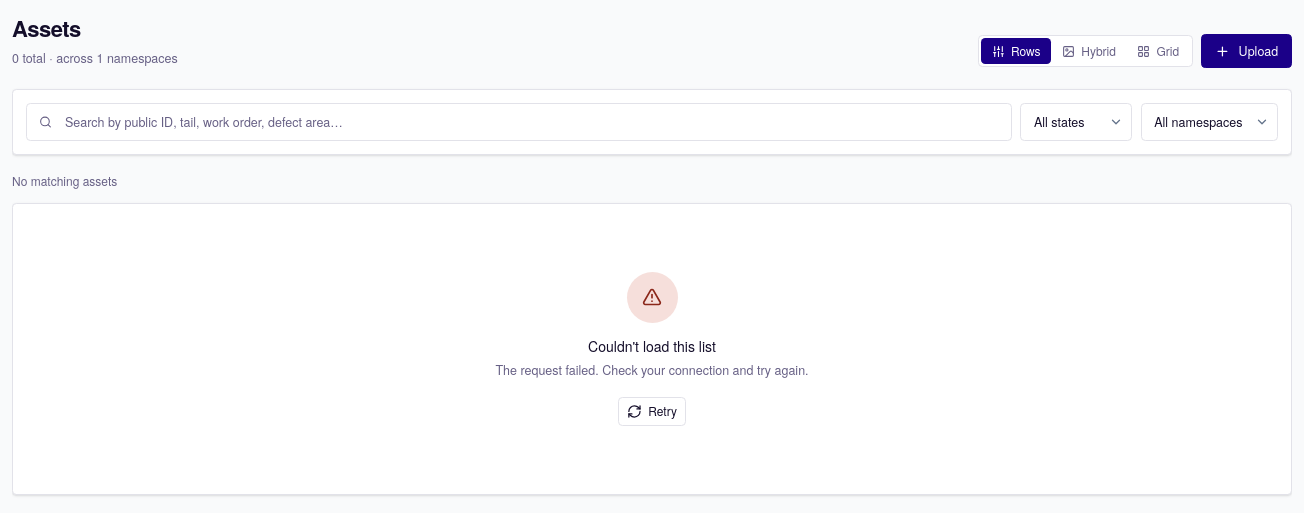
AssetsListPage › re-fetches on retry and replaces the error with data once the retry succeeds
Expected: the message is shown, [12,203,1292,495]
Step 1. Click the button "Retry" → (652, 411), box [618,396,686,426]
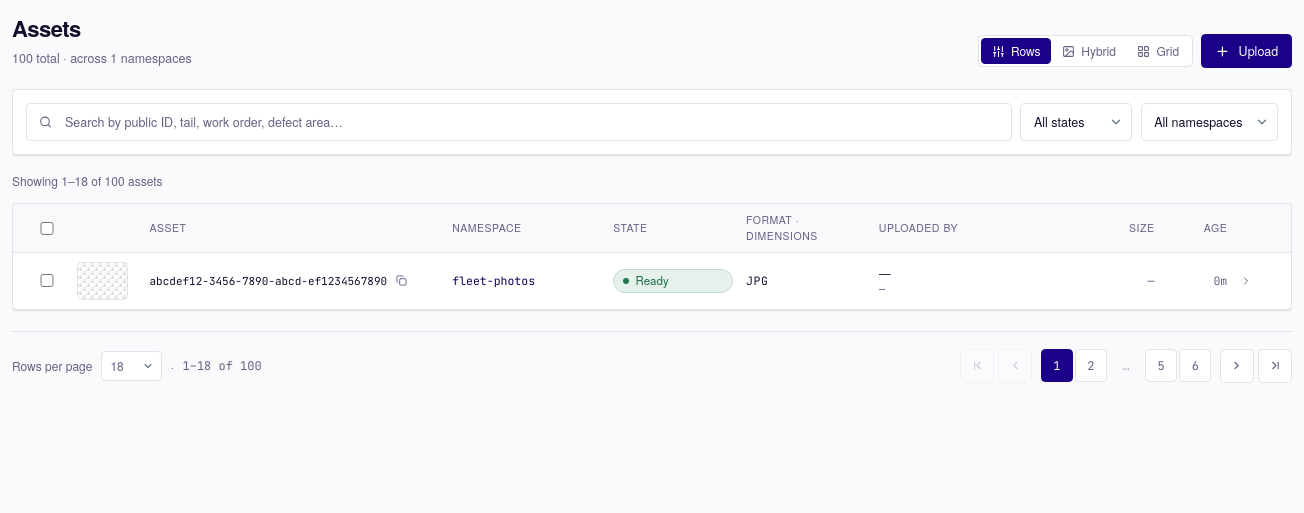
Now the message is gone
Now the text "abcdef12-3456-7890-abcd-ef1234567890" is shown, box [150,273,387,289]
